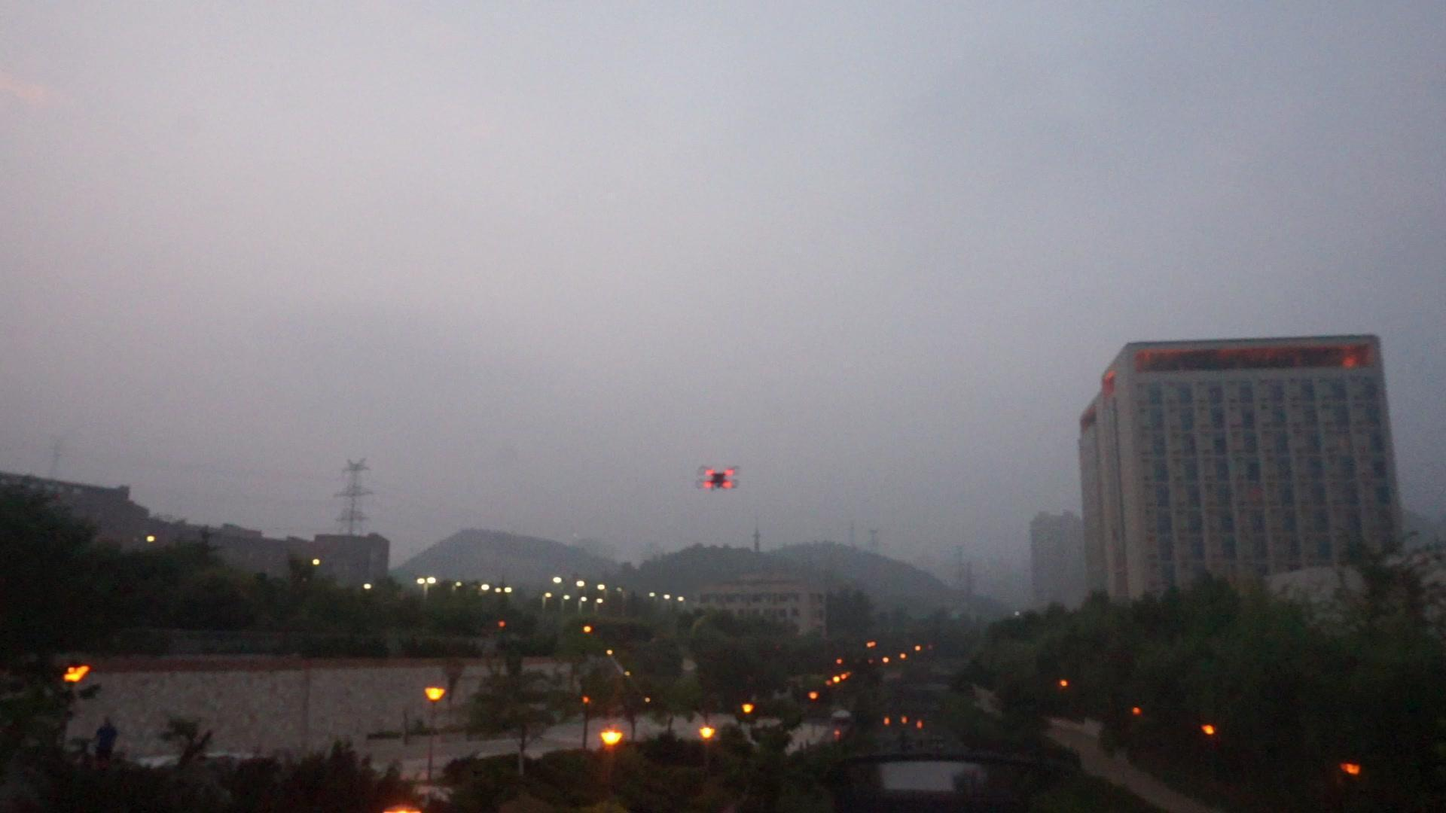UAV: (695, 465, 742, 492)
